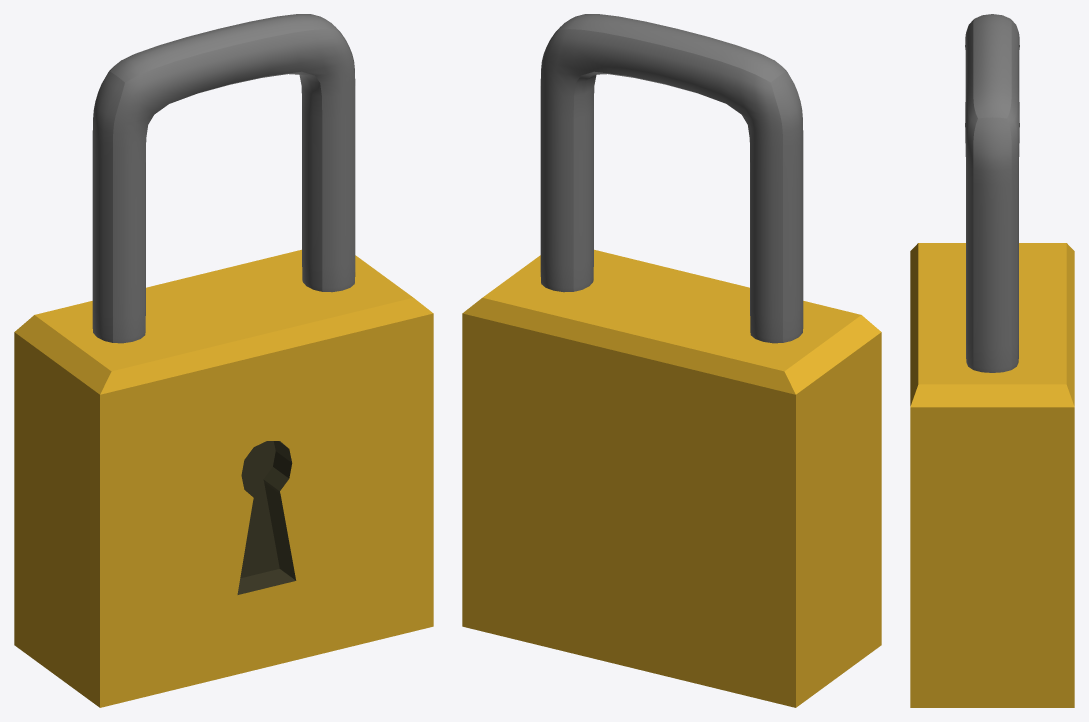
Rendered from lock.fbx.
The picture shows the model from 3 angles, left to right: view 1: azimuth 30°, elevation 25°; view 2: azimuth 150°, elevation 25°; view 3: azimuth 270°, elevation 25°; orthographic projection. The views are drawn at different scales.
Visible parts, largest first — view 1: Cube.002, Cube; view 2: Cube.002, Cube; view 3: Cube.002, Cube.
Part boxes in pixels (bbox=[...]): Cube.002: bbox=[14, 249, 433, 707]; Cube: bbox=[92, 14, 355, 343]; Cube.002: bbox=[462, 249, 881, 707]; Cube: bbox=[540, 14, 803, 343]; Cube.002: bbox=[910, 243, 1074, 707]; Cube: bbox=[965, 14, 1019, 372].
Size of the model in its own units: 297 by 514 by 132.
